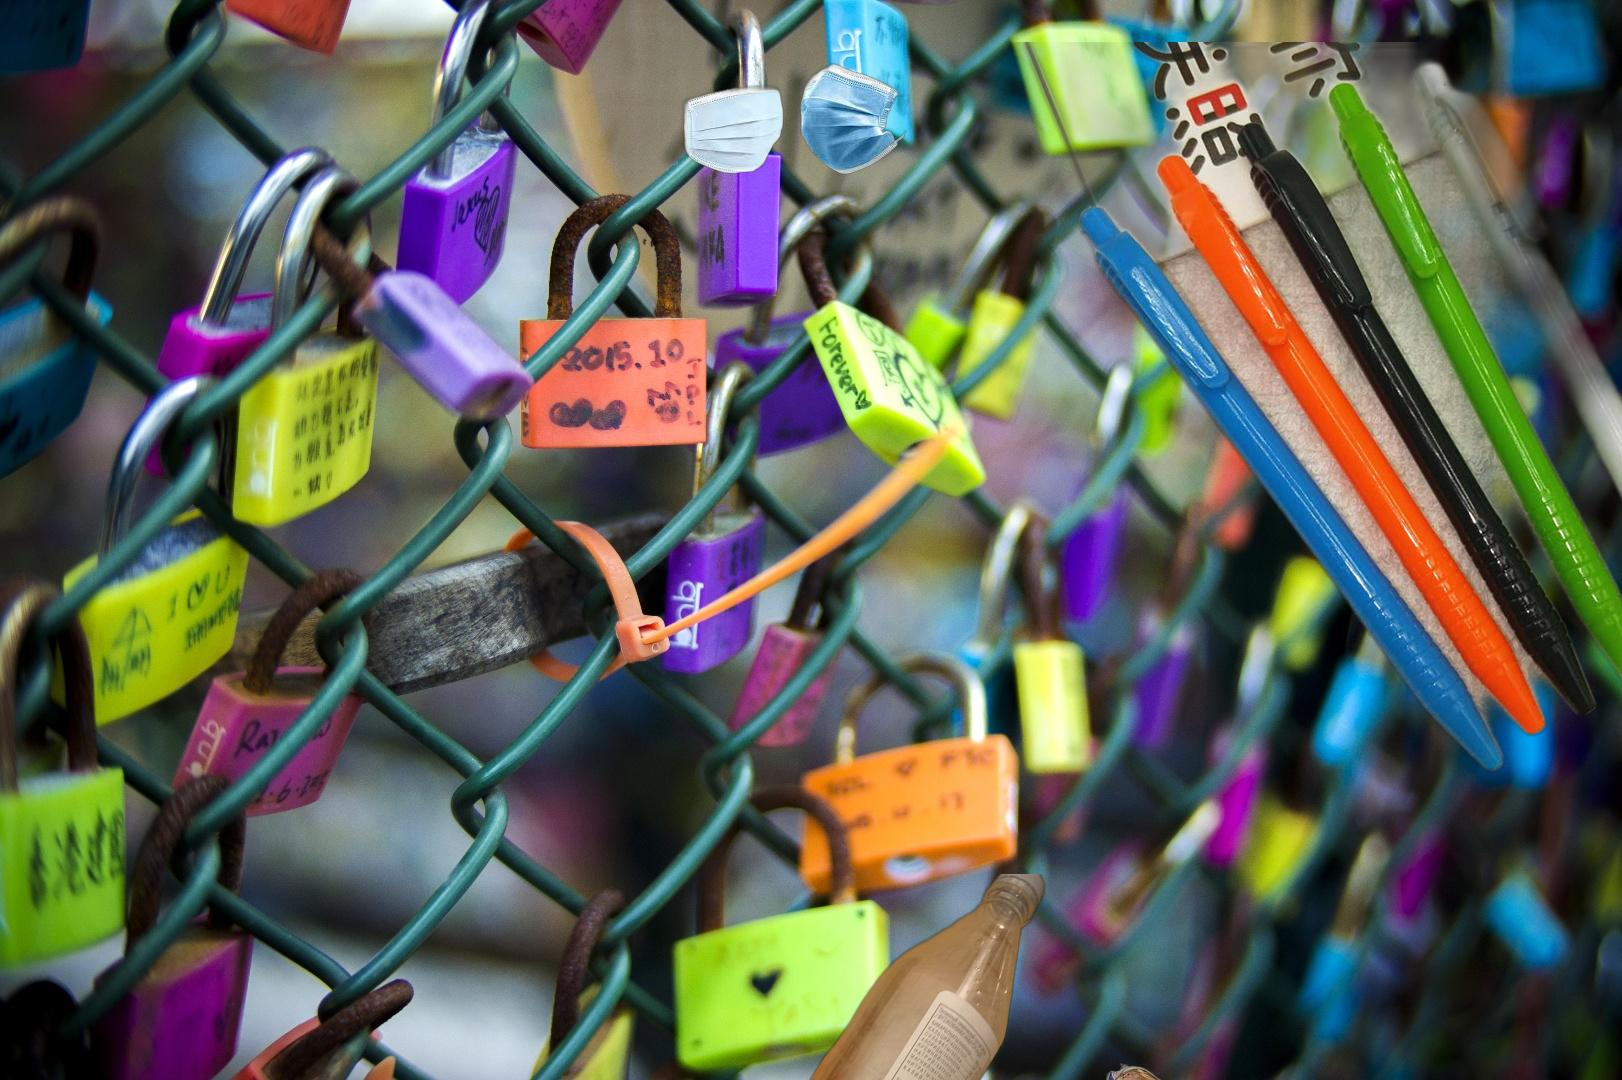penholder: (1015, 42, 1622, 777)
plastic-bottles: (700, 874, 1051, 1080)
shoes: (1007, 1061, 1248, 1080)
trash: (678, 61, 909, 177)
